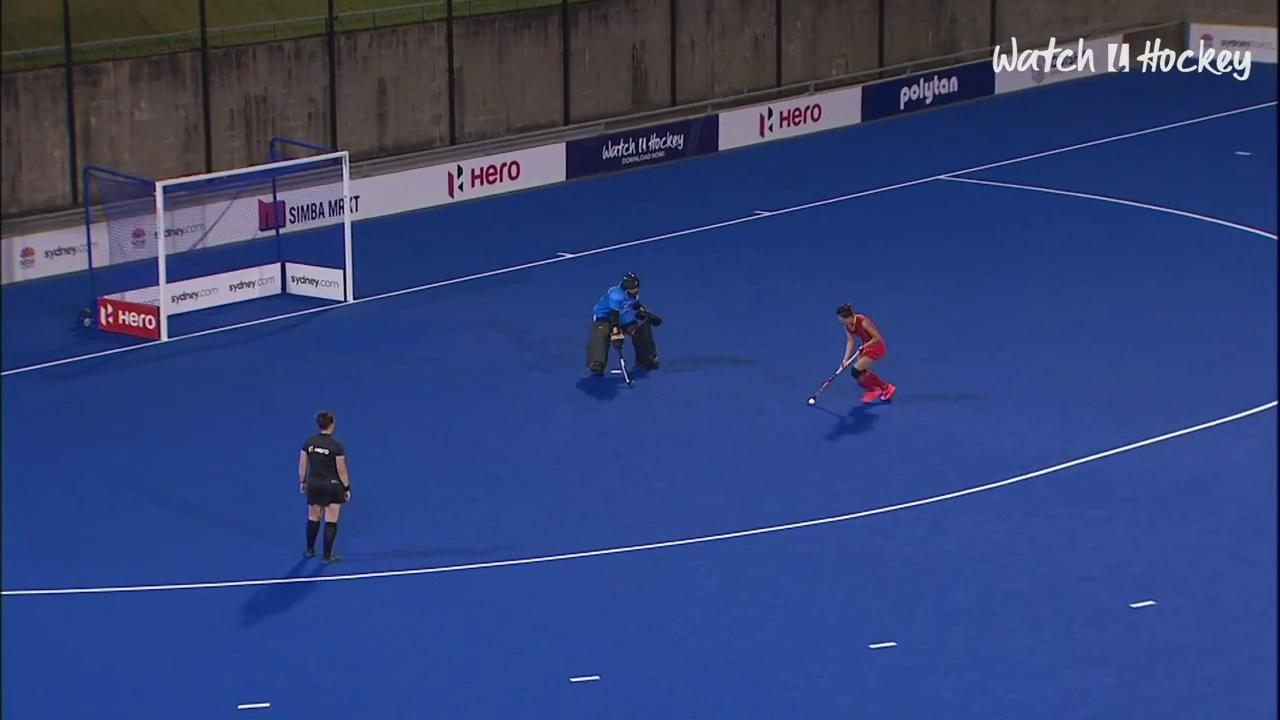ball: (802, 391, 821, 419)
